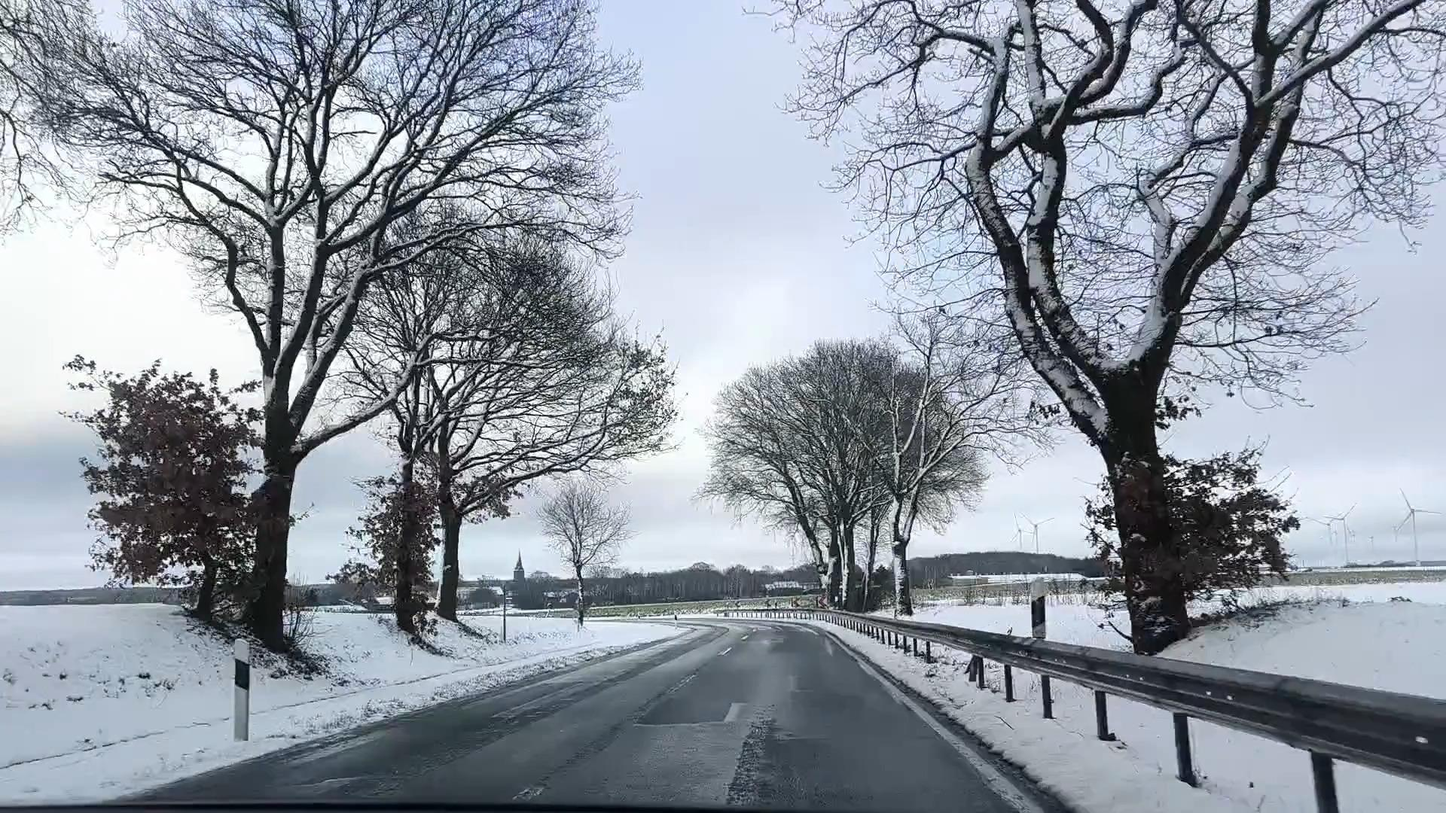Snow: (0, 601, 671, 805), (843, 586, 1446, 813)
wet: (127, 615, 1060, 813)
